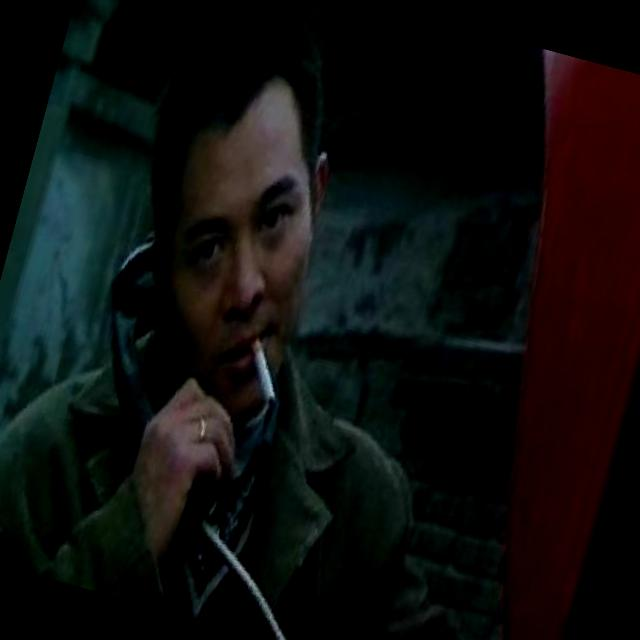smoke: (234, 334, 292, 411)
